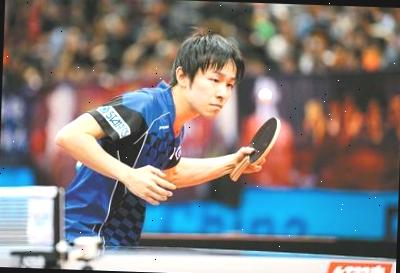ball: (254, 84, 272, 102)
